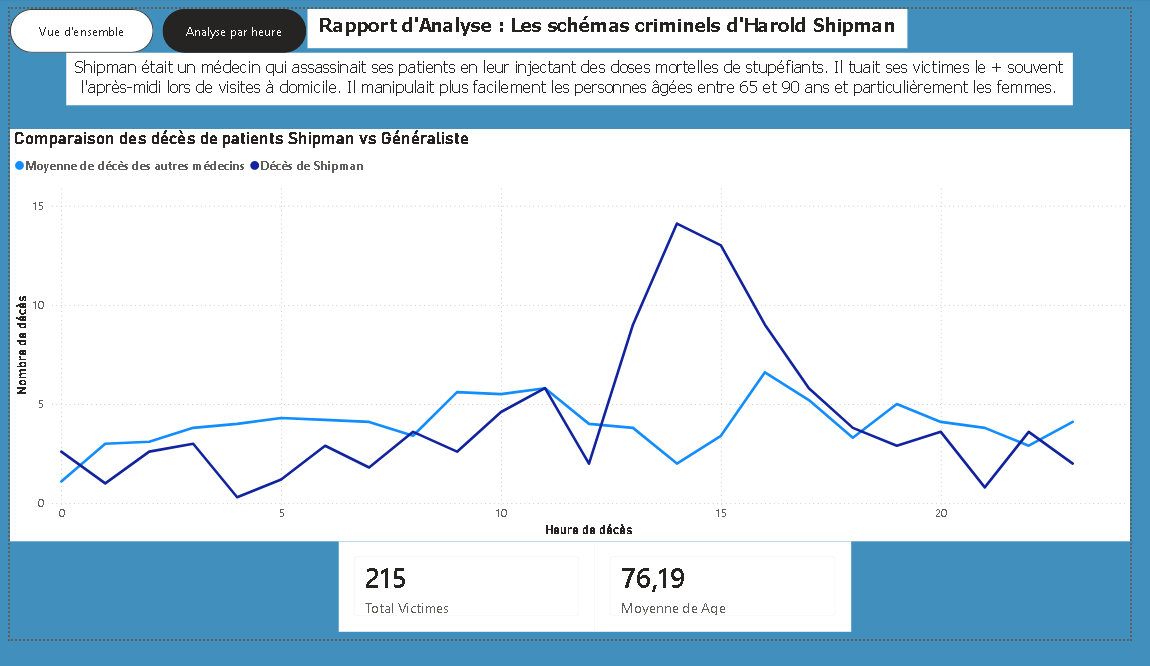

The dashboard page shown, as its layout file describes it:
{"tool":"powerbi","page":{"name":"Page 1","canvas":[1280,720],"ordinal":0},"visuals":[{"type":"lineChart","title":"Comparaison des décès de patients Shipman vs Généraliste","fields":{"Category":["shipman-times-comparison.Hour"],"Y":["Sum(shipman-times-comparison.Comparison)","Sum(shipman-times-comparison.Shipman)"]},"box":[0,137.1,1280,471.4],"z":3000},{"type":"textbox","title":"Titre","box":[339.4,0,685.7,45],"z":4000},{"type":"textbox","title":"Sous-titre","box":[64.3,50,1150,60],"z":5000},{"type":"cardVisual","title":"Âge","fields":{"Data":["Avg(shipman-confirmed-victims.Age)"]},"box":[668.6,608.6,292.9,102.9],"z":6000},{"type":"cardVisual","title":"Nom des victimes","fields":{"Data":["shipman-confirmed-victims.Total Victimes"]},"box":[375.7,608.6,292.9,102.9],"z":7000},{"type":"bookmarkNavigator","box":[0,0,339.4,50.2],"z":7001}]}

Visuals, with their boxes in screenshot pixels (x1, y1, x2, y2), scaled from the page's 1280x720 canvas onto the 1150x666 screenshot:
"Comparaison des décès de patients Shipman vs Généraliste" lineChart: (0,127,1149,563)
"Titre" textbox: (305,0,921,42)
"Sous-titre" textbox: (58,46,1091,102)
"Âge" cardVisual: (601,563,864,658)
"Nom des victimes" cardVisual: (338,563,601,658)
bookmarkNavigator: (0,0,305,46)
